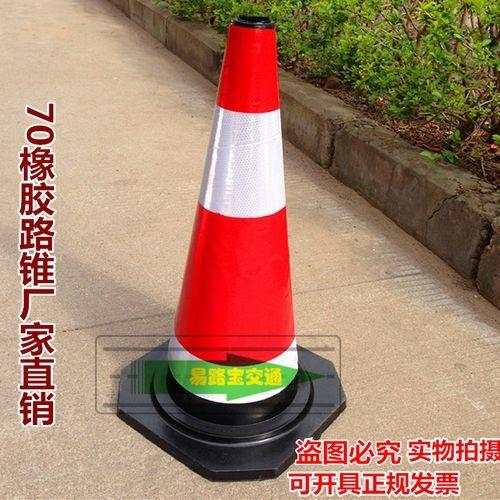cone_barrel: (135, 14, 319, 442)
